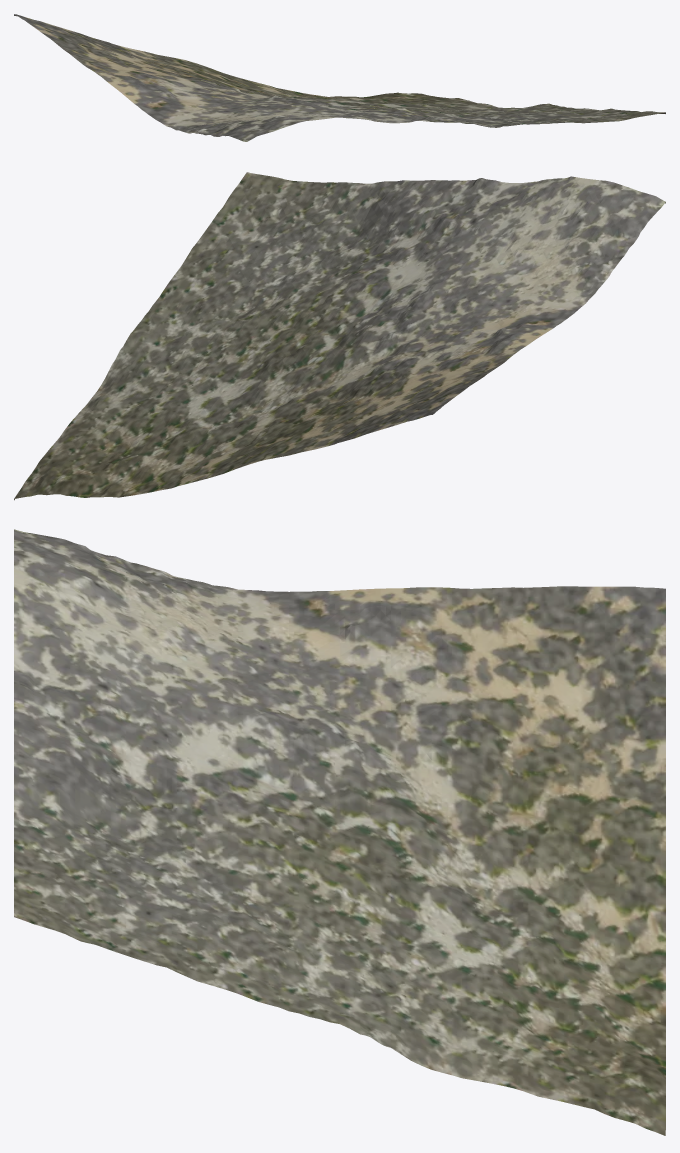
3 renders of one model, top to bottom at view 1: azimuth 30°, elevation 25°; view 2: azimuth 150°, elevation 25°; view 3: azimuth 270°, elevation 25°, orthographic. The views are drawn at different scales.
Size of the model in its own units: 250 by 135 by 241.
1 material, 1 textured.
